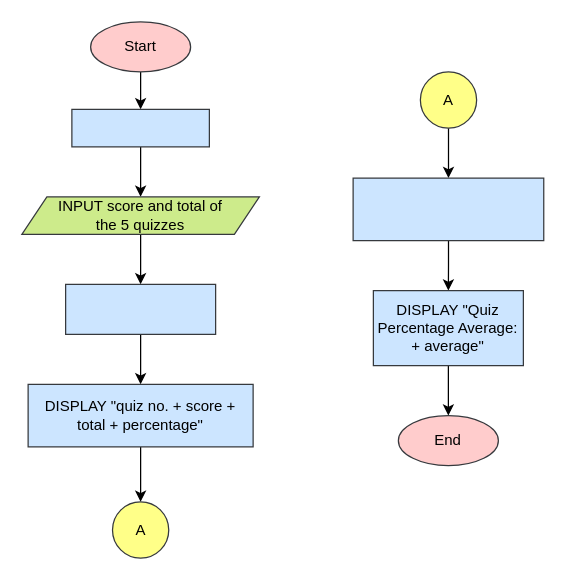
Image size: 566x580. Some labels were removed from this diagram. The shapes that lost their labels are listed below. From the top down, each one's centre as x and y in pixels, then its label:
pixel 140 127: declare variables
pixel 448 209: average = sum of percentage 1 to 5 / 5
pixel 140 308: percentage = (score / total) * 100;
